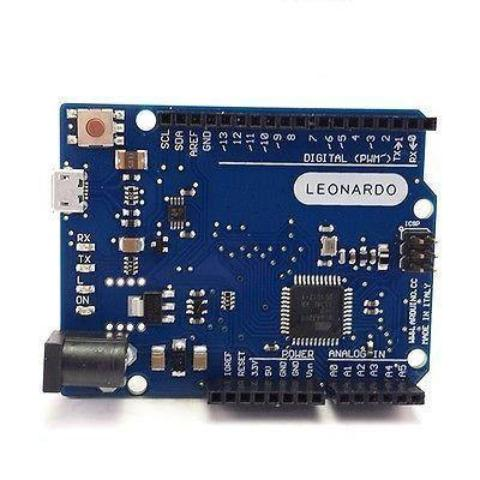Arduino-Leonardo: (35, 78, 456, 424)
